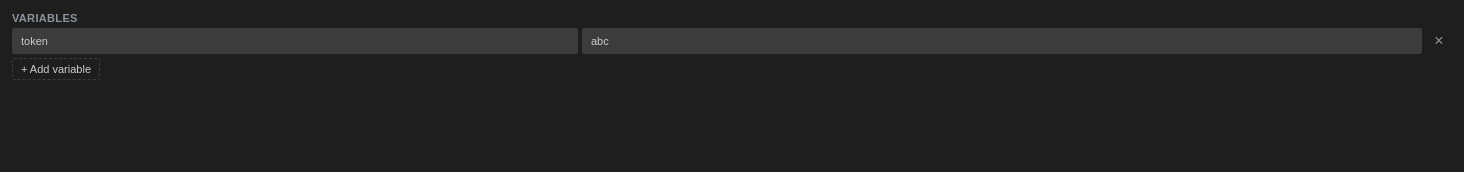
VariablesEditor › renaming a variable › reports how many references it updated
Replace the text in the field with placeholder "name" with "tok": (295, 41) [12,28,578,54]
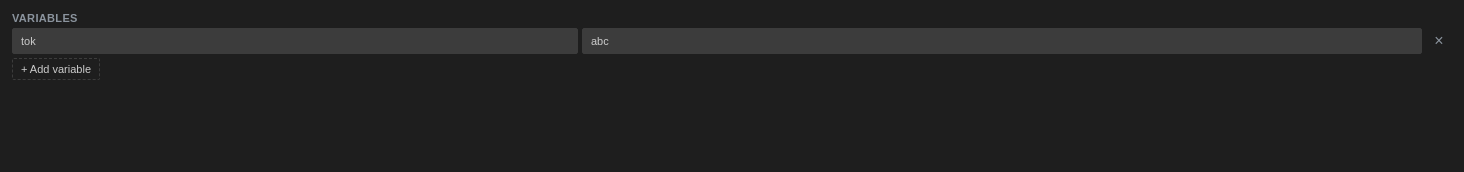
Leave the field with placeholder "name", box [12,28,578,54]
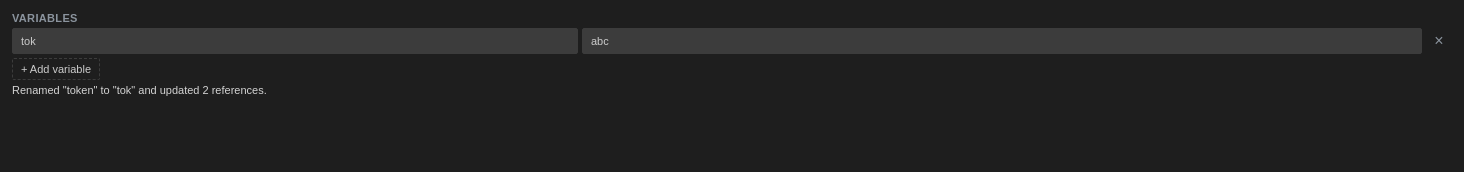
Now the text with test id "rename-note" shows "updated 2 references", box [12,84,267,96]
